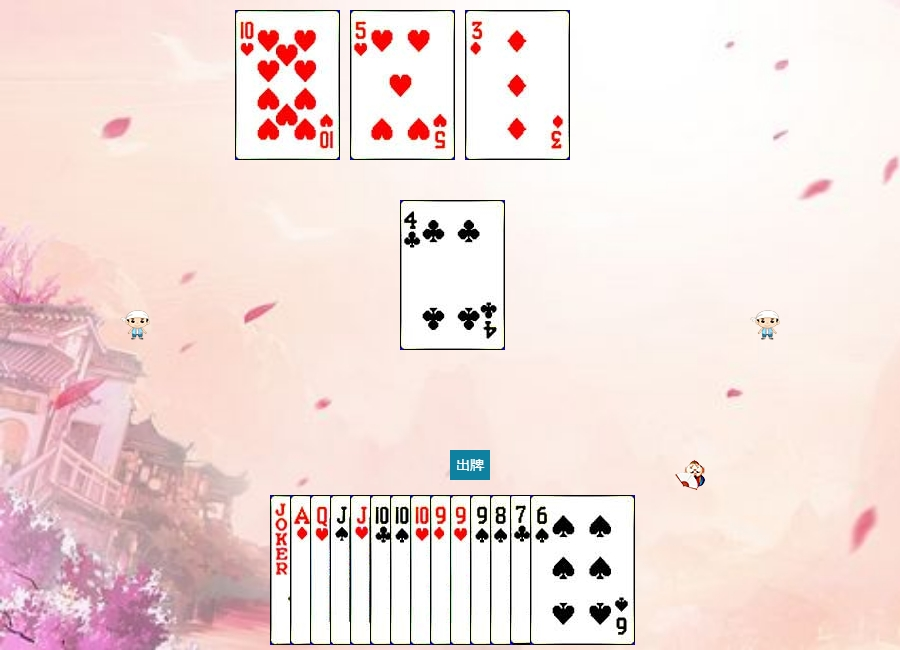10~2: (370, 495, 475, 645)
10~3: (235, 10, 340, 160), (410, 495, 515, 645)
10~4: (390, 495, 495, 645)
11~3: (350, 495, 455, 645)
11~4: (330, 495, 435, 645)
12~3: (310, 495, 415, 645)
14~1: (290, 495, 395, 645)
18~4: (270, 495, 375, 645)
3~1: (465, 10, 570, 160)
4~2: (400, 200, 505, 350)
5~3: (350, 10, 455, 160)
6~4: (530, 495, 635, 645)
7~2: (510, 495, 615, 645)
8~4: (490, 495, 595, 645)
9~1: (430, 495, 535, 645)
9~3: (450, 495, 555, 645)
9~4: (470, 495, 575, 645)
